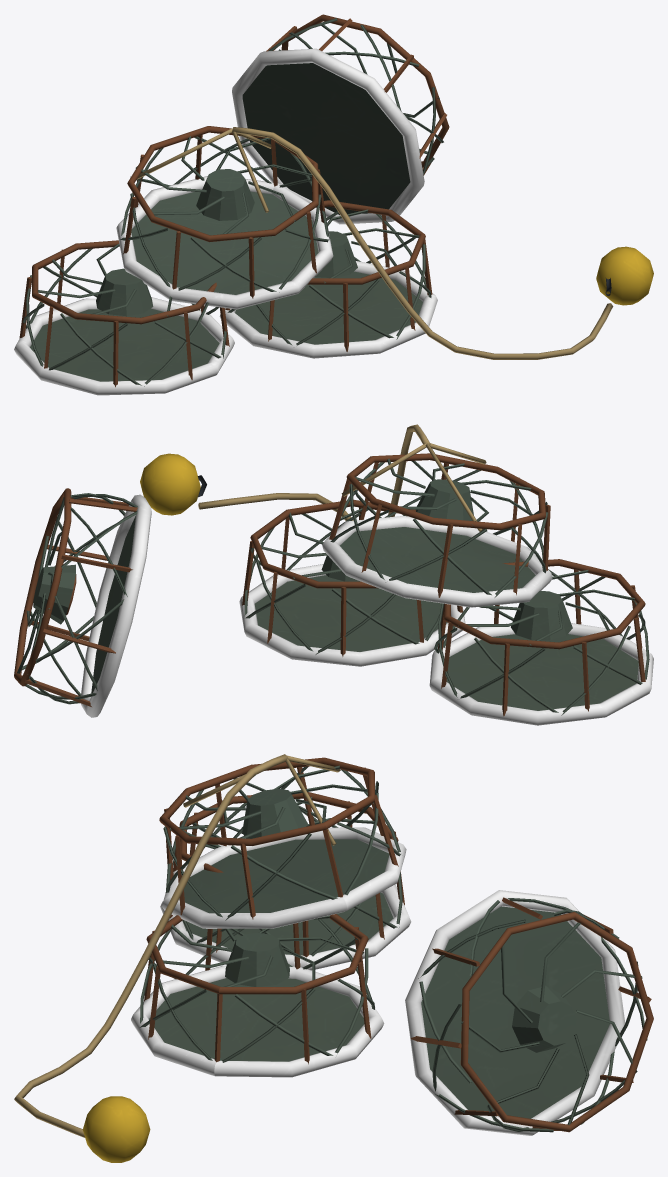
File: crab_pots.glb
The picture shows the model from 3 angles, top to bottom: view 1: azimuth 30°, elevation 25°; view 2: azimuth 150°, elevation 25°; view 3: azimuth 270°, elevation 25°; orthographic projection. The views are drawn at different scales.
Parts seen in each view (by area): view 1: crab_pots; view 2: crab_pots; view 3: crab_pots.
Part boxes in pixels (<box>): crab_pots: <box>14,14,653,395</box>; crab_pots: <box>14,424,653,725</box>; crab_pots: <box>14,754,653,1162</box>.
Bounding box in the file's own units: 2.56 × 1.02 × 2.27.
6 materials, 6 textured.
